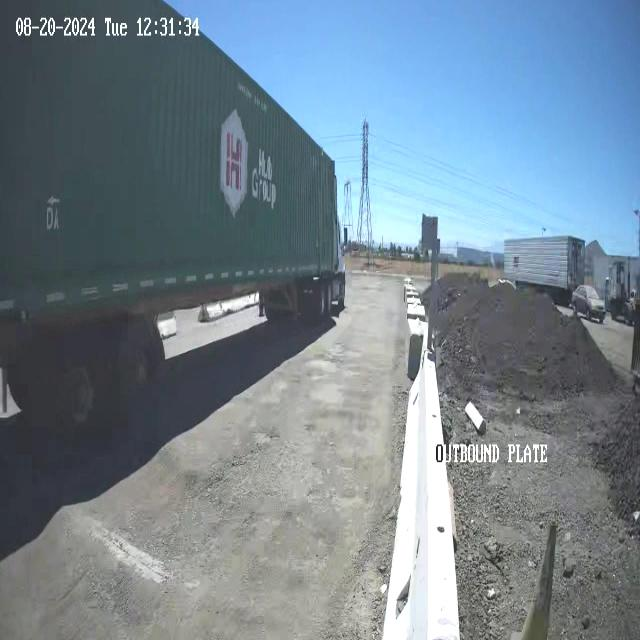CONTAINER: (8, 6, 338, 308)
